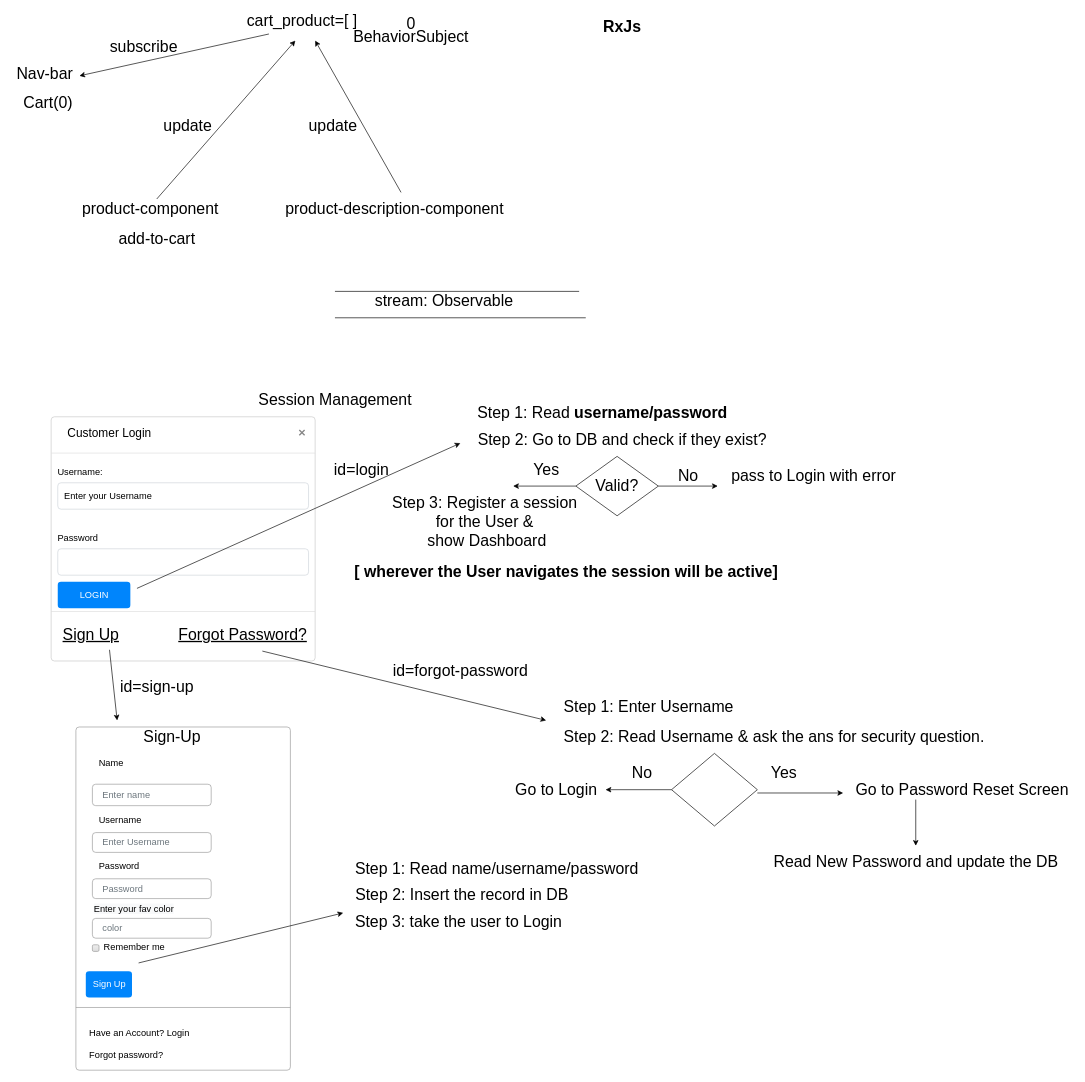
The diagram is 1085 pixels wide and 1082 high, and some of its shapes have lost their labels. Here are the shapes that lost their labels. From the top down, the centre of each, then its label:
the point at 183,561: Enter your Password
the point at 714,789: Correct?
